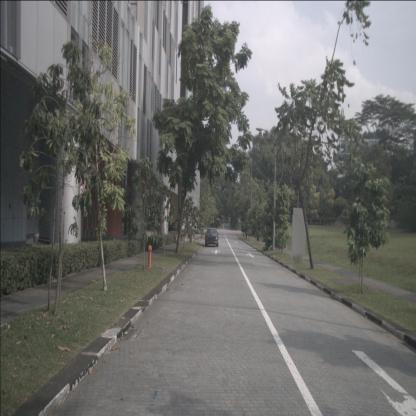vehicle-car: (205, 228, 218, 246)
vehicle-truck: (219, 215, 224, 223), (216, 220, 220, 227)
